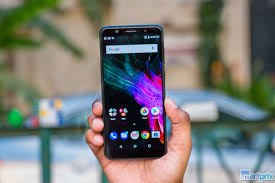asus: (96, 22, 169, 161)
